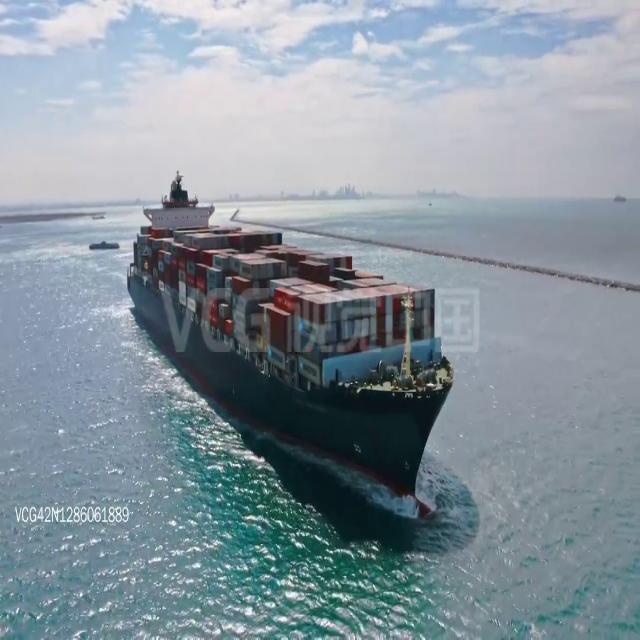cargoship: (130, 167, 456, 520)
